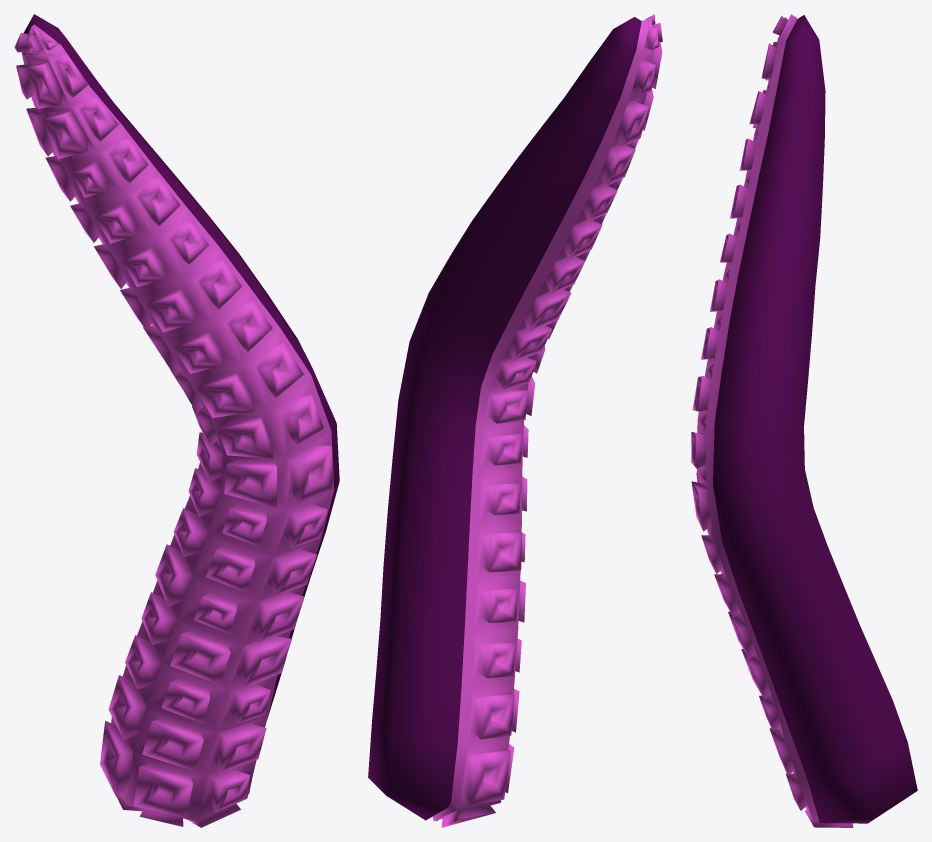
The model's file is tentacule5.fbx.
3 renders of one model, left to right at view 1: azimuth 30°, elevation 25°; view 2: azimuth 150°, elevation 25°; view 3: azimuth 270°, elevation 25°, orthographic. The views are drawn at different scales.
Visible parts, largest first — view 1: tentacule6; view 2: tentacule6; view 3: tentacule6.
Part boxes in pixels (x1=…): tentacule6: x1=14, y1=14, x2=339, y2=827; tentacule6: x1=368, y1=14, x2=662, y2=827; tentacule6: x1=691, y1=14, x2=917, y2=827.
Size of the model in its own units: 70.3 by 203 by 56.35.
